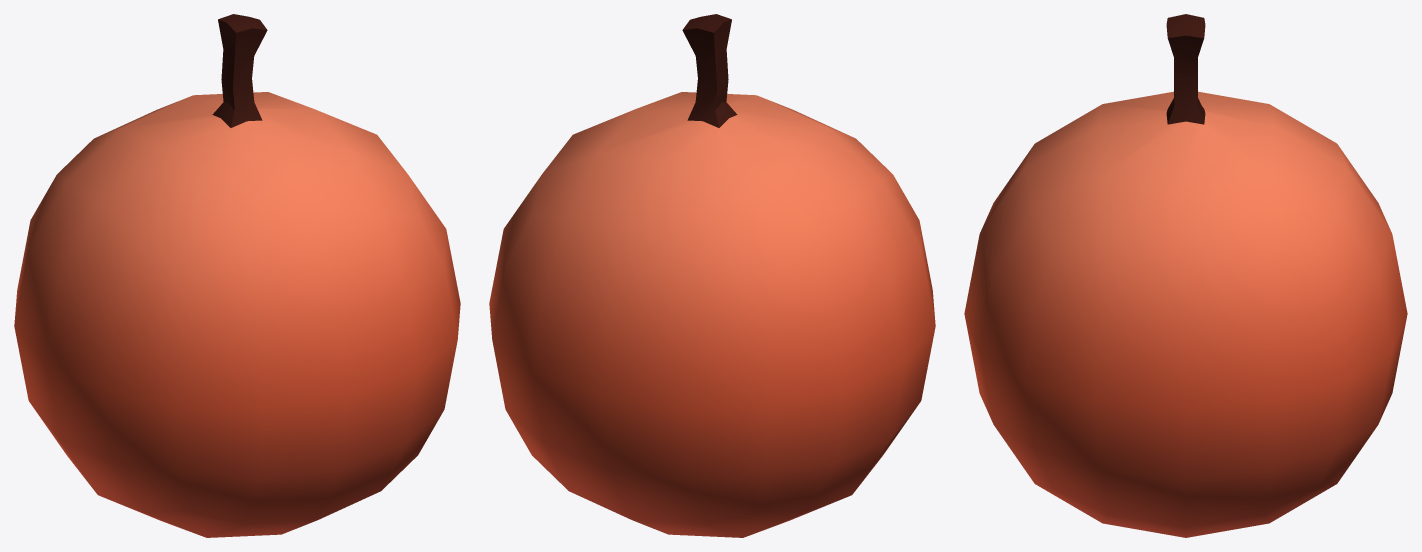
The model's file is SM_Orange.fbx.
3 renders of one model, left to right at view 1: azimuth 30°, elevation 25°; view 2: azimuth 150°, elevation 25°; view 3: azimuth 270°, elevation 25°, orthographic.
Visible parts, largest first — view 1: SM_Orange; view 2: SM_Orange; view 3: SM_Orange.
Part boxes in pixels (x1,y1,x2,y2): SM_Orange: [14, 14, 460, 537]; SM_Orange: [489, 14, 935, 537]; SM_Orange: [964, 14, 1407, 537].
Bounding box in the file's own units: 20.84 × 25.7 × 20.84.
